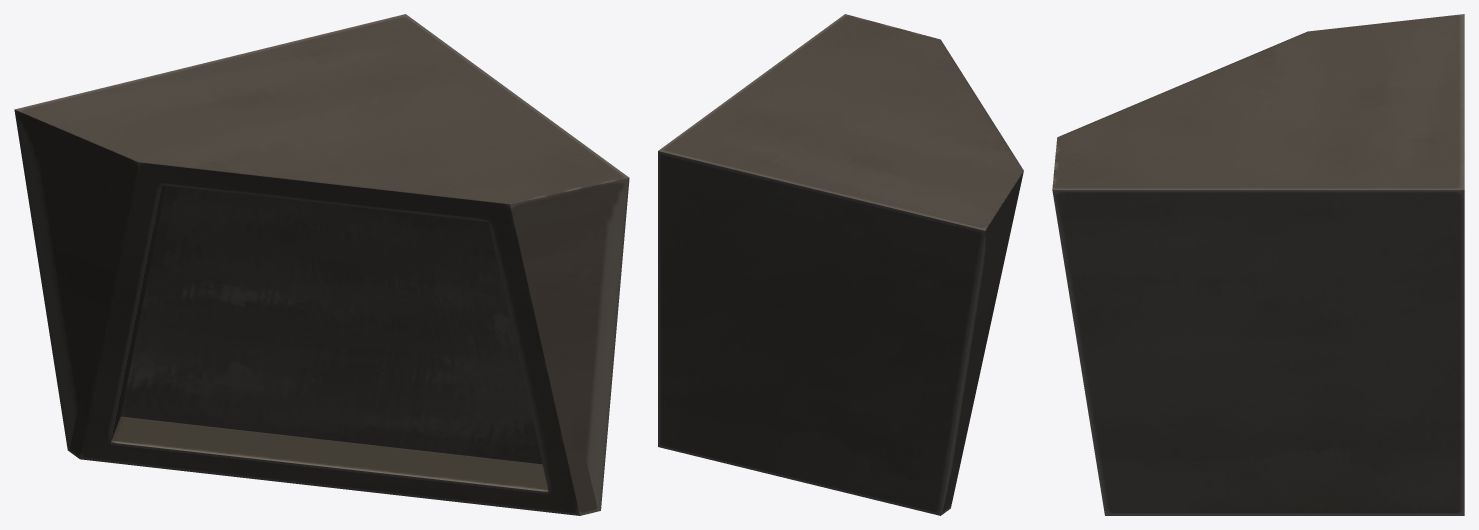
The model's file is Cela_TV.fbx.
The picture shows the model from 3 angles, left to right: view 1: azimuth 30°, elevation 25°; view 2: azimuth 150°, elevation 25°; view 3: azimuth 270°, elevation 25°; orthographic projection. The views are drawn at different scales.
Parts seen in each view (by area): view 1: Plane.054; view 2: Plane.054; view 3: Plane.054.
Part boxes in pixels (box(x1,y1,x2,y2)): Plane.054: box(14, 14, 629, 515); Plane.054: box(658, 14, 1023, 515); Plane.054: box(1052, 14, 1464, 515).
Size of the model in its own units: 44.02 by 38.05 by 43.61.
